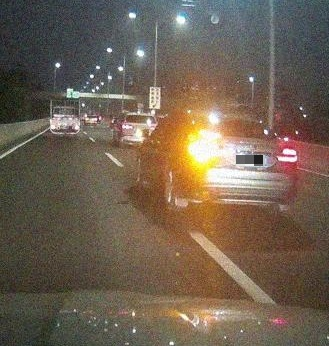L_light: (189, 144, 218, 160)
R_light: (276, 148, 297, 162)
T_light: (230, 118, 247, 123)
night-left: (174, 110, 300, 217)
plate_1: (236, 155, 265, 166)
